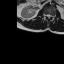CCS_normal: (48, 13, 49, 20)
LFS_normal: (51, 13, 52, 19)
LLS_normal: (49, 13, 51, 19)
RFS_normal: (45, 12, 46, 18)
RLS_normal: (46, 12, 48, 18)
